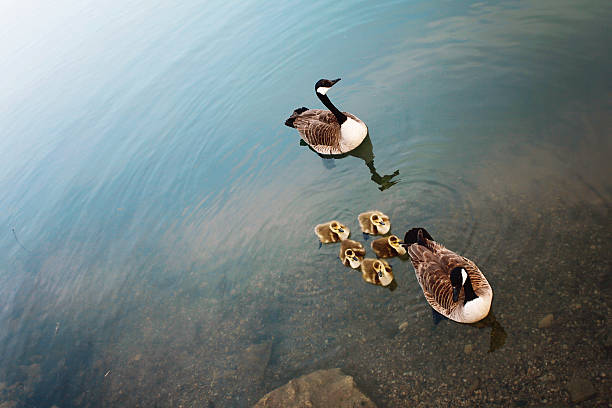goose: (400, 225, 495, 326), (283, 75, 369, 157)
